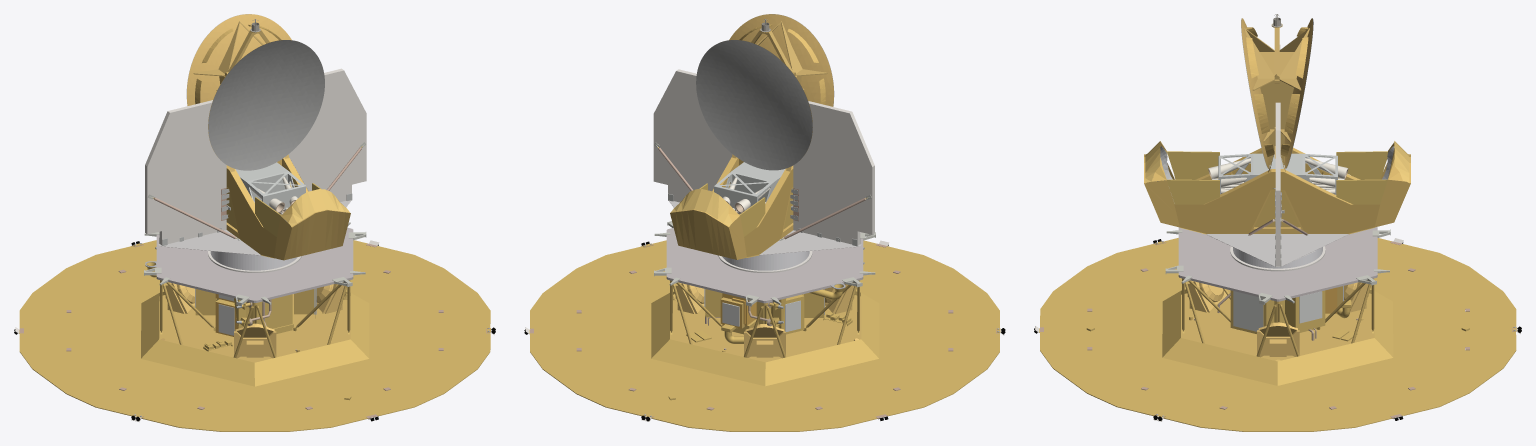
The model's file is space-wmap.glb.
3 renders of one model, left to right at view 1: azimuth 30°, elevation 25°; view 2: azimuth 150°, elevation 25°; view 3: azimuth 270°, elevation 25°, orthographic.
Visible parts, largest first — view 1: Layer_0; view 2: Layer_0; view 3: Layer_0.
Boxes of the visible parts, bbox=[...] form: Layer_0: bbox=[14, 14, 495, 431]; Layer_0: bbox=[524, 14, 1005, 431]; Layer_0: bbox=[1034, 14, 1521, 431].
Size of the model in its own units: 278 by 208 by 283.
2 materials, 2 textured.
